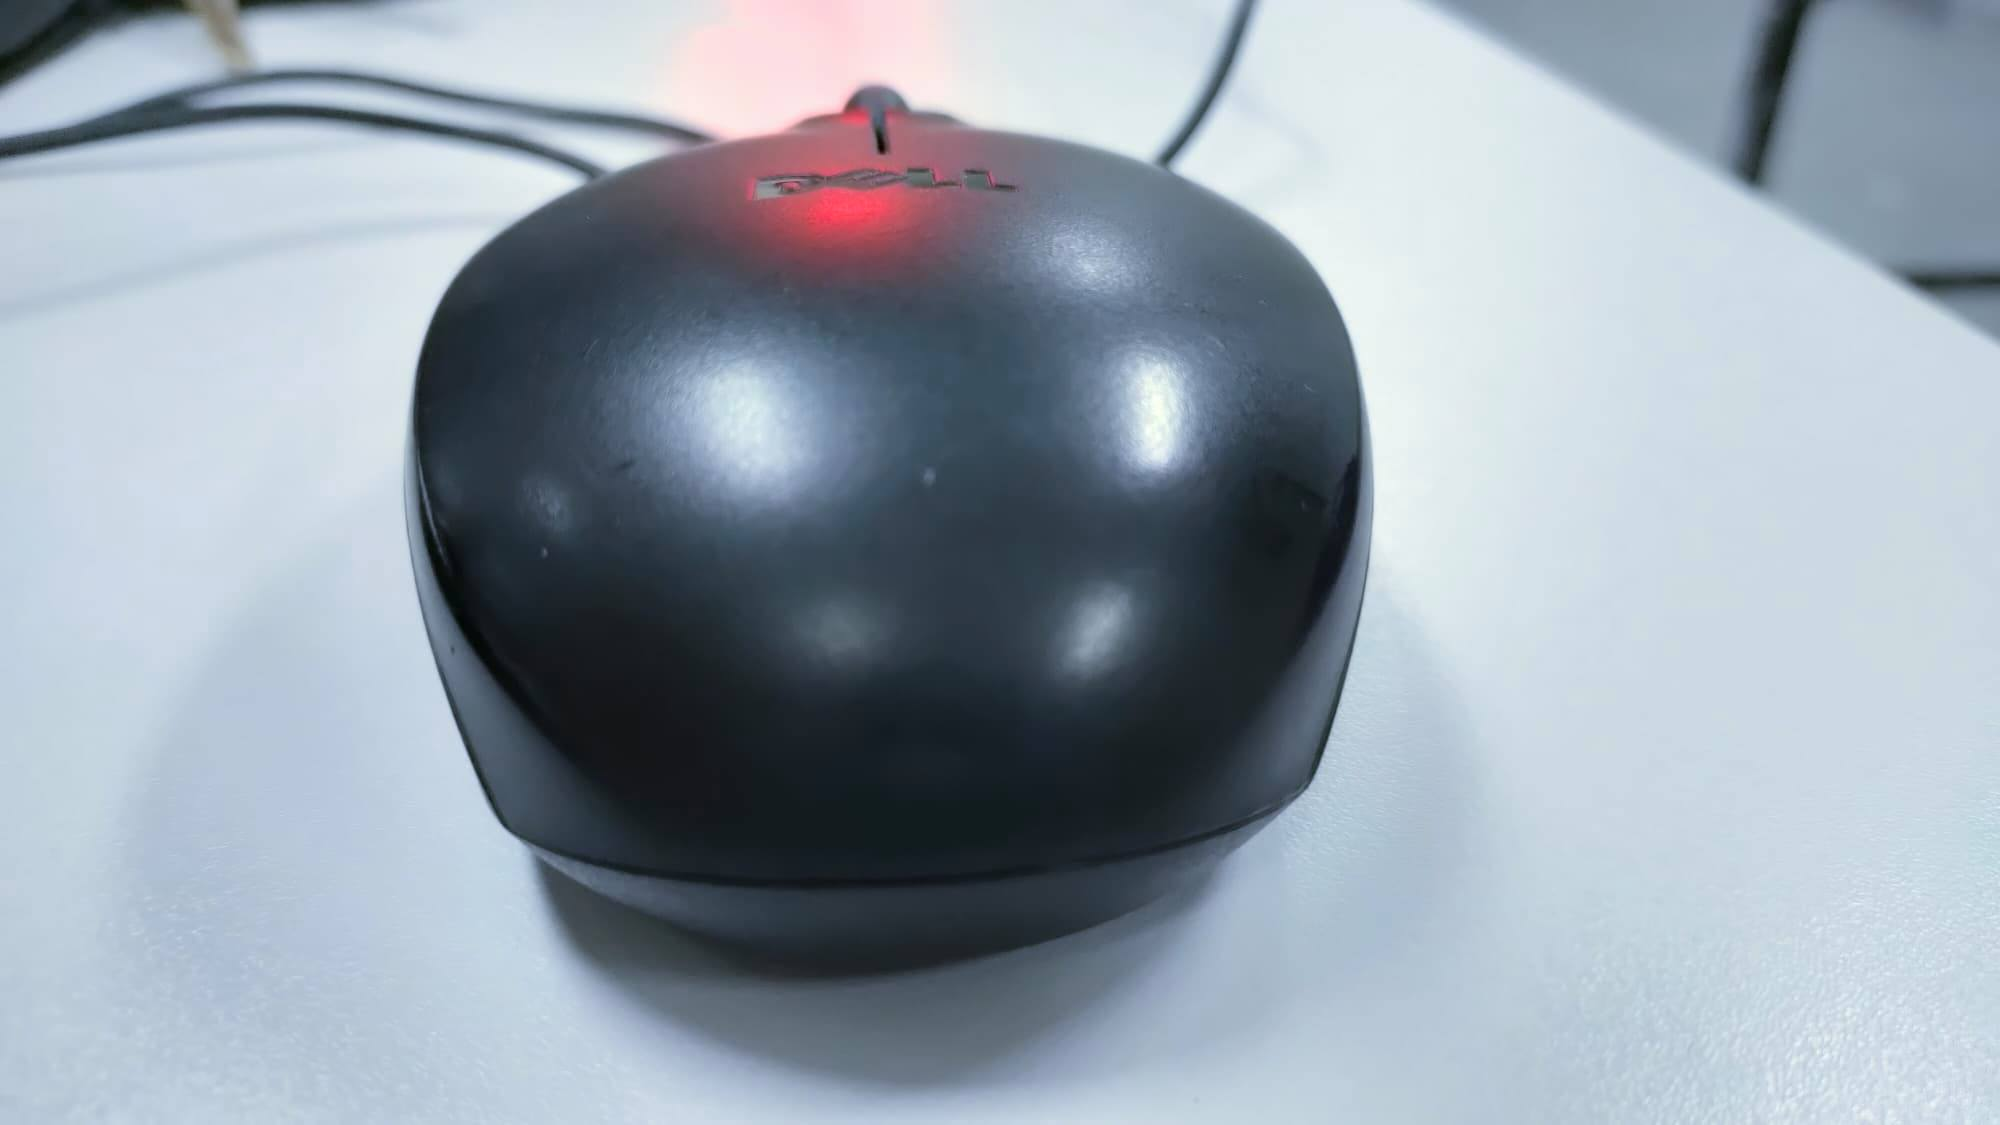mouse: (335, 60, 1501, 934)
